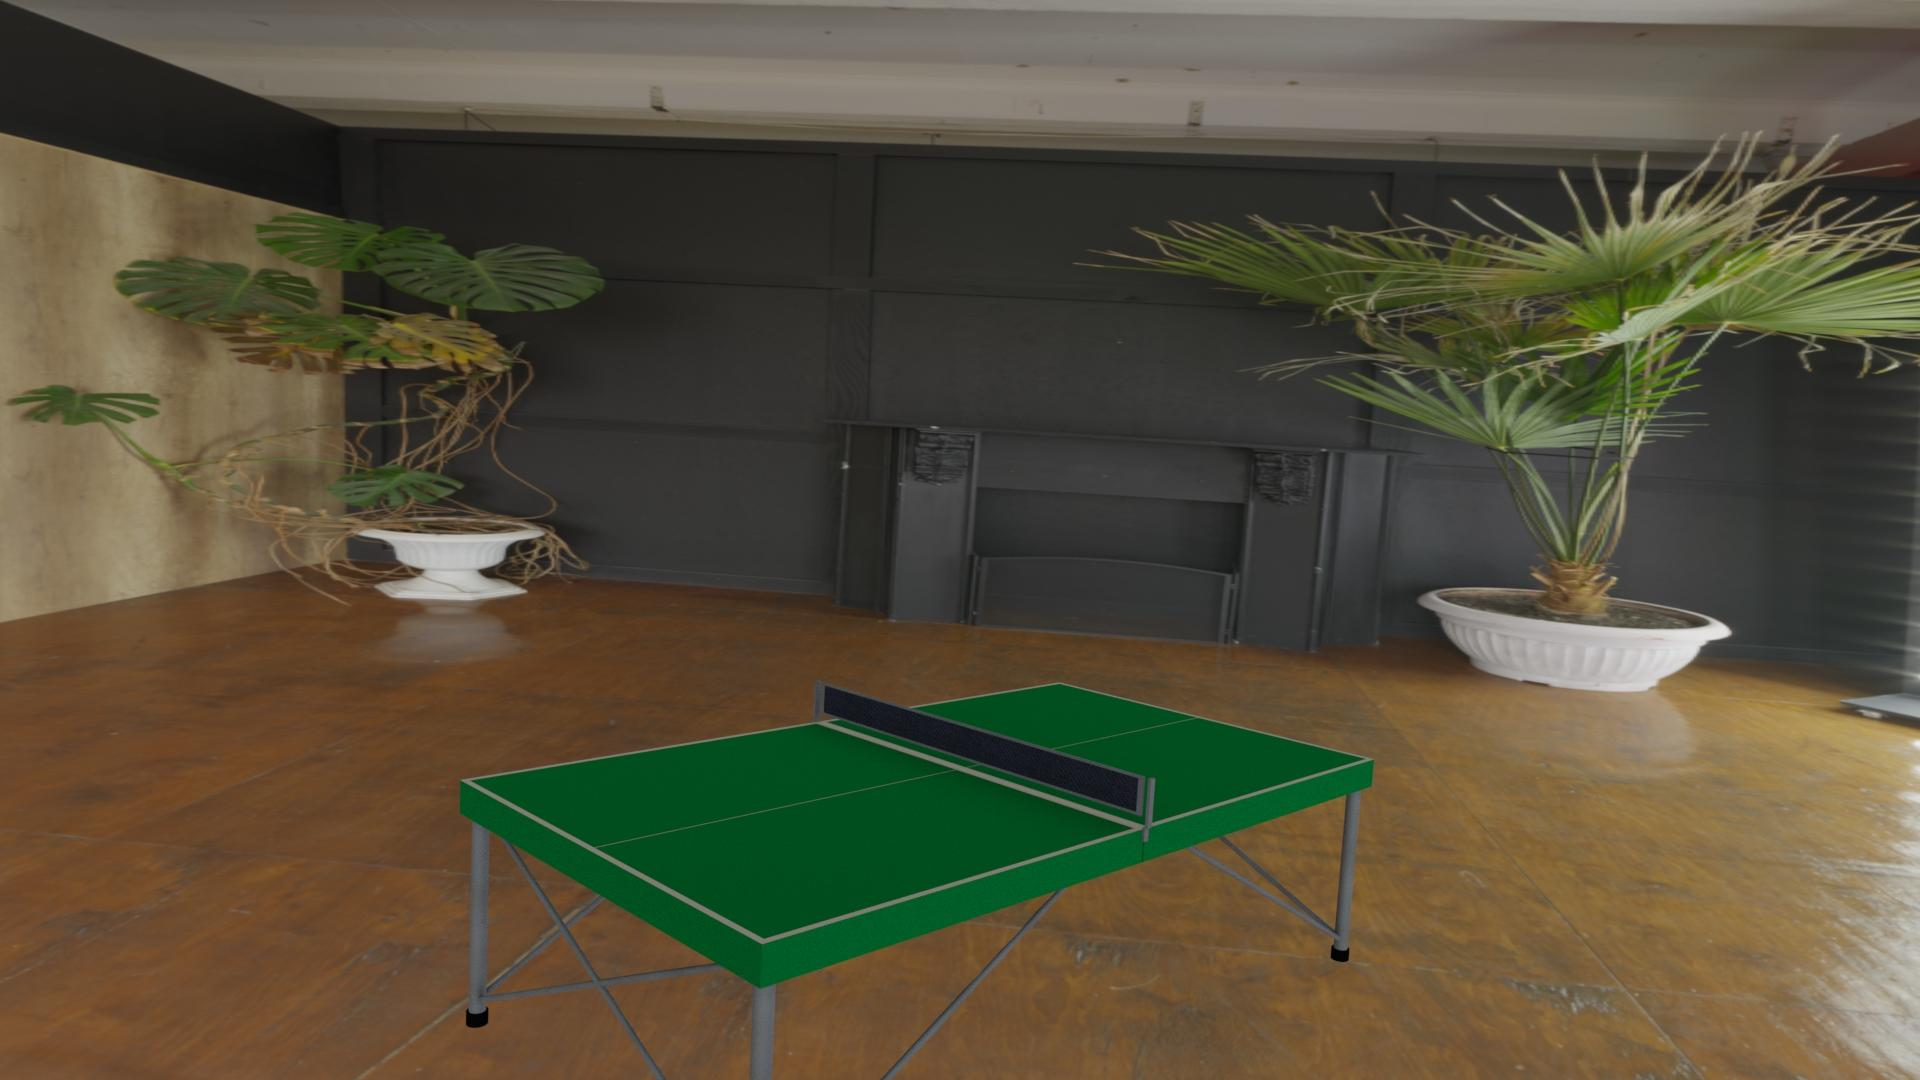table: (469, 684, 1366, 939)
